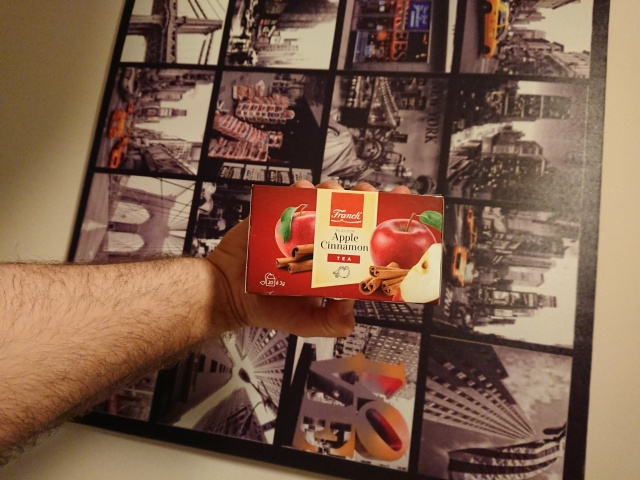Franck Apple Cinnamon Tea 60g: (241, 181, 447, 308)
